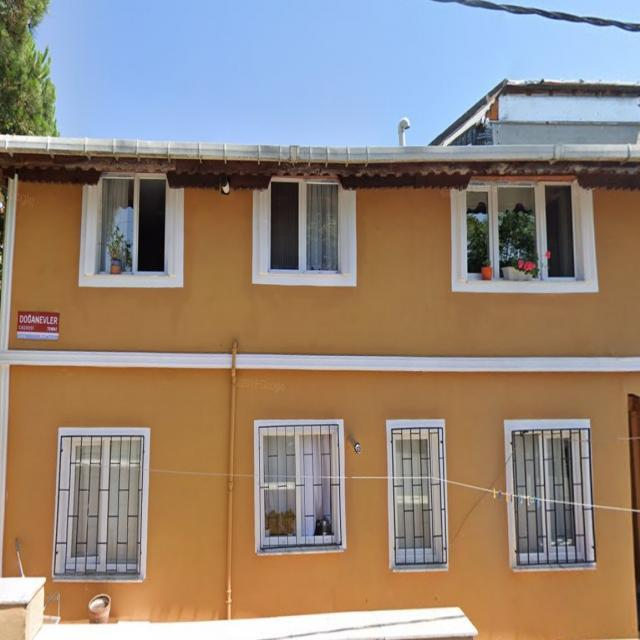Building: (0, 135, 640, 640)
